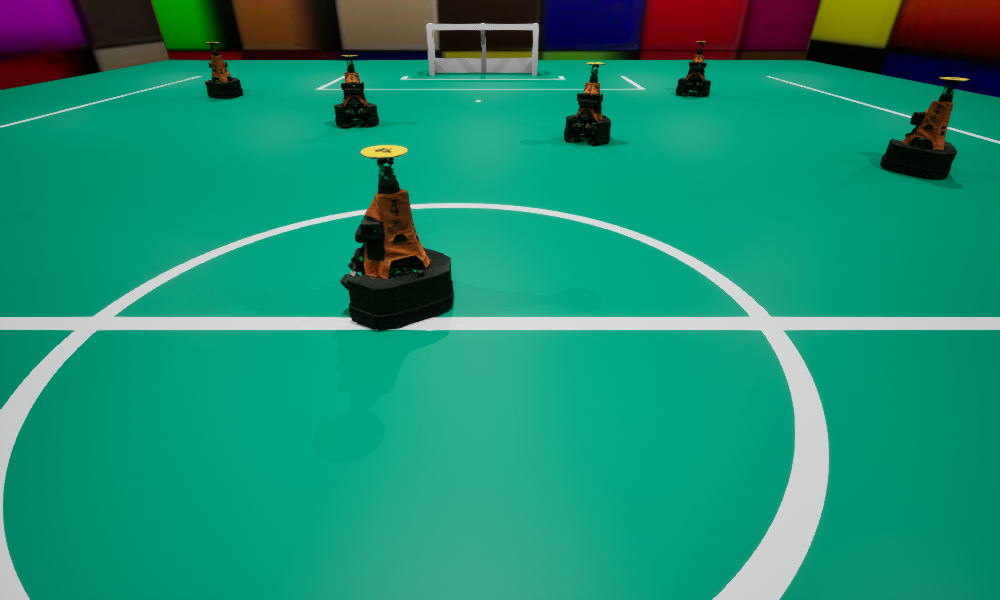0 orange robot TechUnited: (340, 145, 453, 330), (880, 77, 969, 179), (564, 62, 610, 144), (334, 55, 378, 128), (205, 42, 242, 98), (676, 41, 710, 96)
